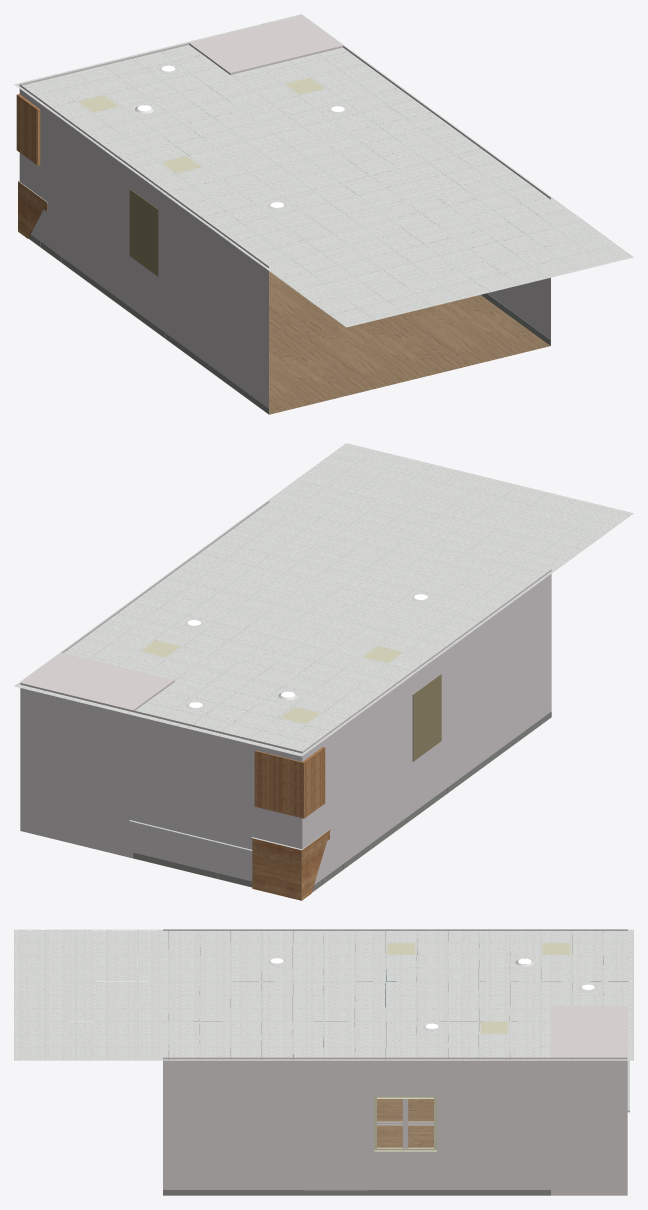
The model's file is office.glb.
3 renders of one model, top to bottom at view 1: azimuth 30°, elevation 25°; view 2: azimuth 150°, elevation 25°; view 3: azimuth 270°, elevation 25°, orthographic. The views are drawn at different scales.
Parts seen in each view (by area): view 1: Cube; view 2: Cube; view 3: Cube.
Boxes of the visible parts, left/top/right/bottom form: Cube: left=14, top=14, right=633, bottom=414; Cube: left=14, top=443, right=633, bottom=900; Cube: left=14, top=929, right=633, bottom=1195.
Bounding box in the file's own units: 4.3 × 2.12 × 8.59.
Materials: 15 (15 with a texture image).
